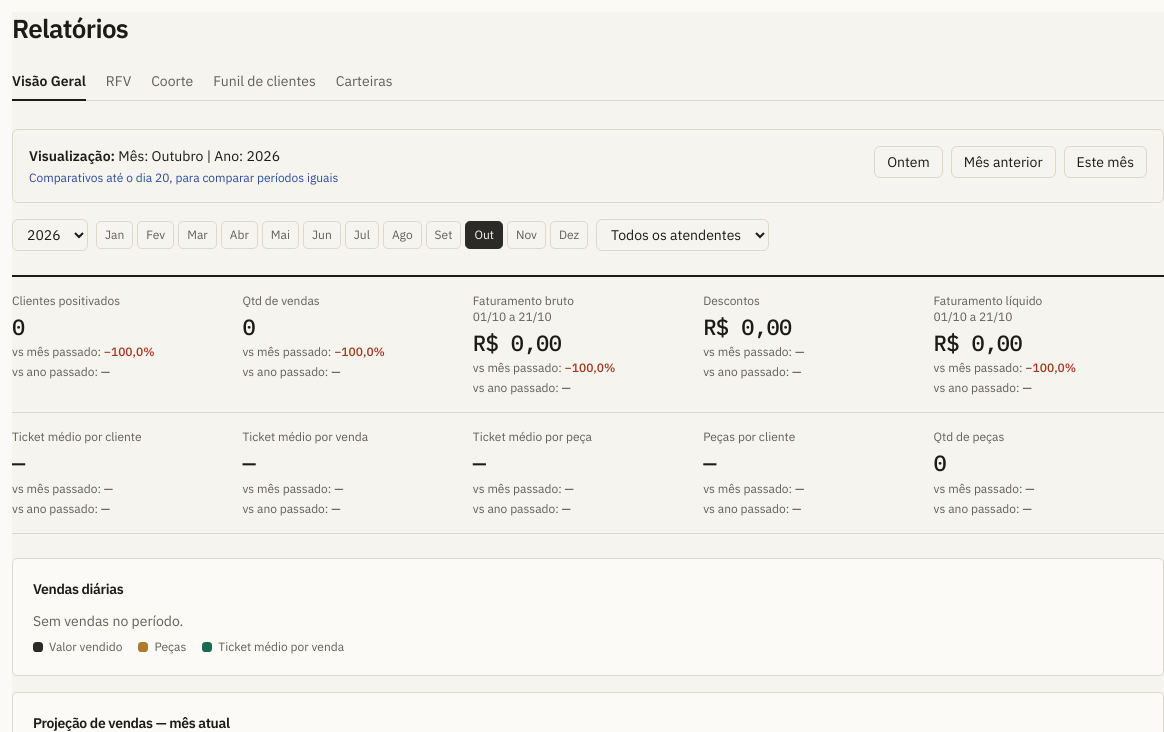
it: B34-02 — resumo das coortes › CA-B34-01: clicar na aba Coorte mostra retenção média, gráfico, tabelas e o Entenda
This screenshot has width=1164, height=732.
Click the tab "Coorte". click: (172, 80)
box: [151,60,193,100]
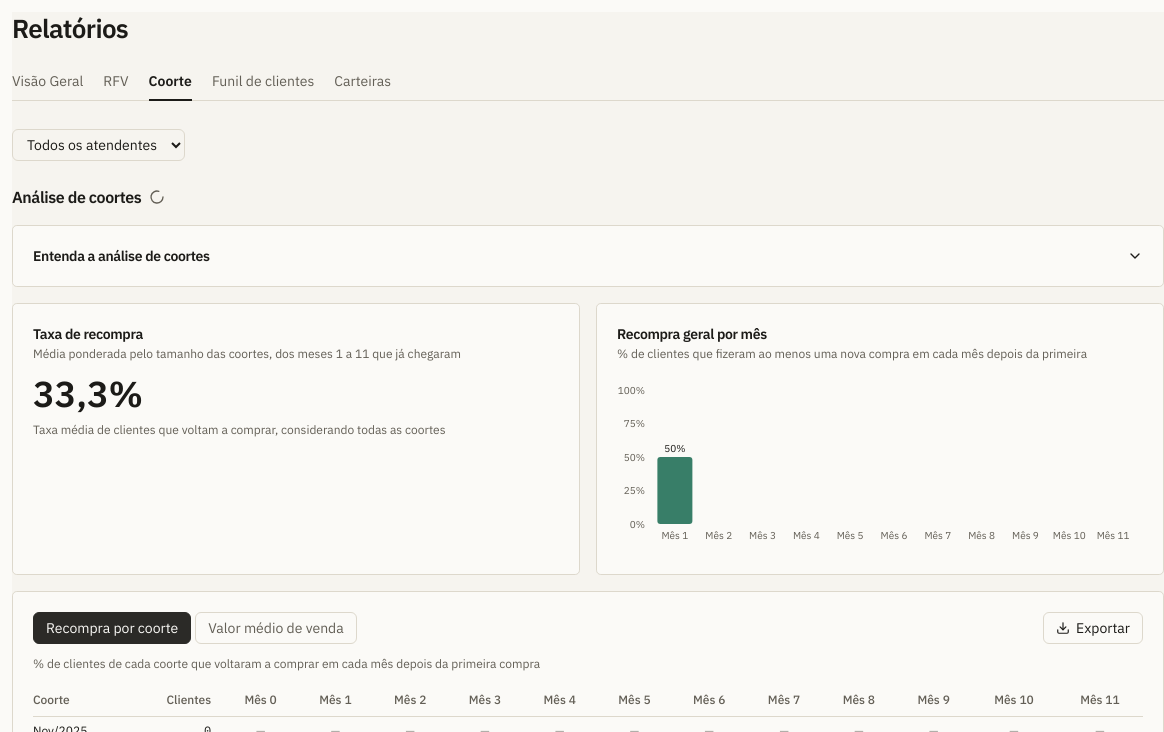
Expected: the text "33,3%" is shown, [33,370,143,416]
Expected: the heading "Recompra geral por mês" is shown, [617,324,767,342]
Expected: the tab "Recompra por coorte" is shown, [33,612,191,644]
Click the button "Entenda a análise de coortes". click: (121, 256)
box: [33,246,1143,266]
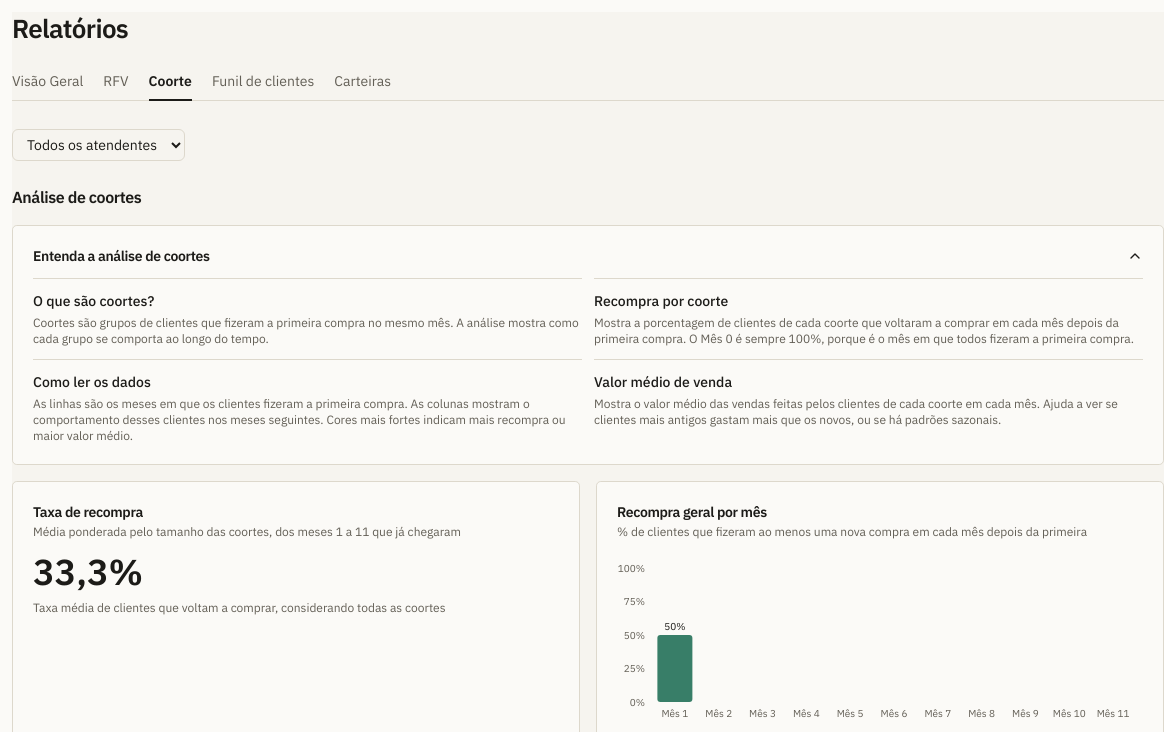
Expected: the heading "Vendas diárias" is not shown
Expected: the text "O que são coortes?" is shown, [33,292,154,310]
